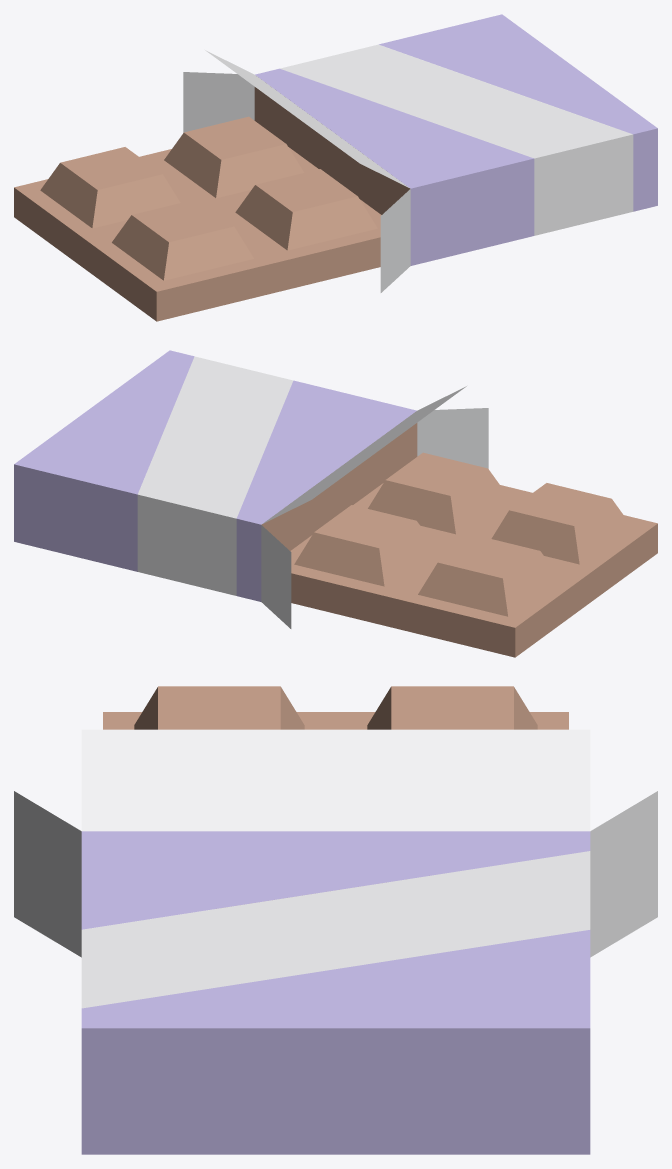
The picture shows the model from 3 angles, top to bottom: view 1: azimuth 30°, elevation 25°; view 2: azimuth 150°, elevation 25°; view 3: azimuth 270°, elevation 25°; orthographic projection. The views are drawn at different scales.
Visible parts, largest first — view 1: chocolateWrapper; view 2: chocolateWrapper; view 3: chocolateWrapper.
Part boxes in pixels (x1,y1,x2,y2): chocolateWrapper: (14, 14, 657, 321); chocolateWrapper: (14, 350, 657, 657); chocolateWrapper: (14, 686, 657, 1154).
Bounding box in the file's own units: 0.2925 × 0.0649 × 0.202.
